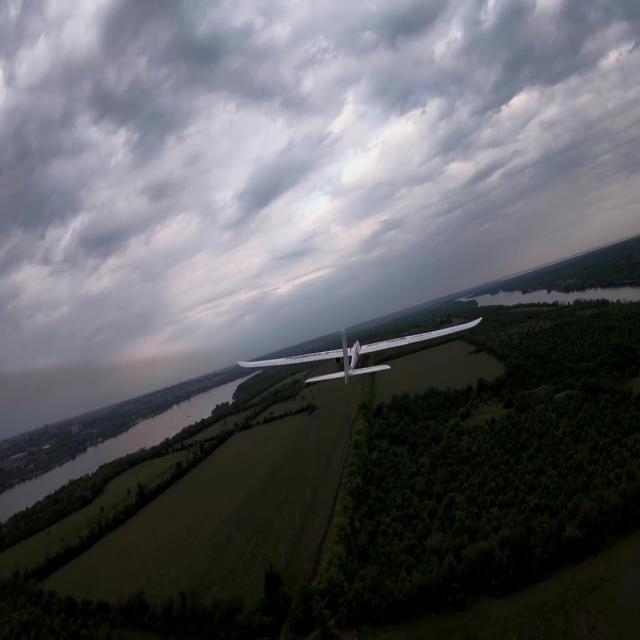iha: (235, 346, 488, 361)
